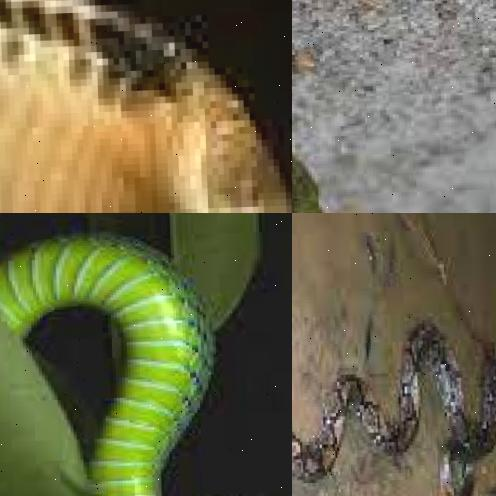snake: (0, 213, 292, 496), (0, 0, 292, 213), (292, 297, 496, 496), (292, 96, 496, 213)
